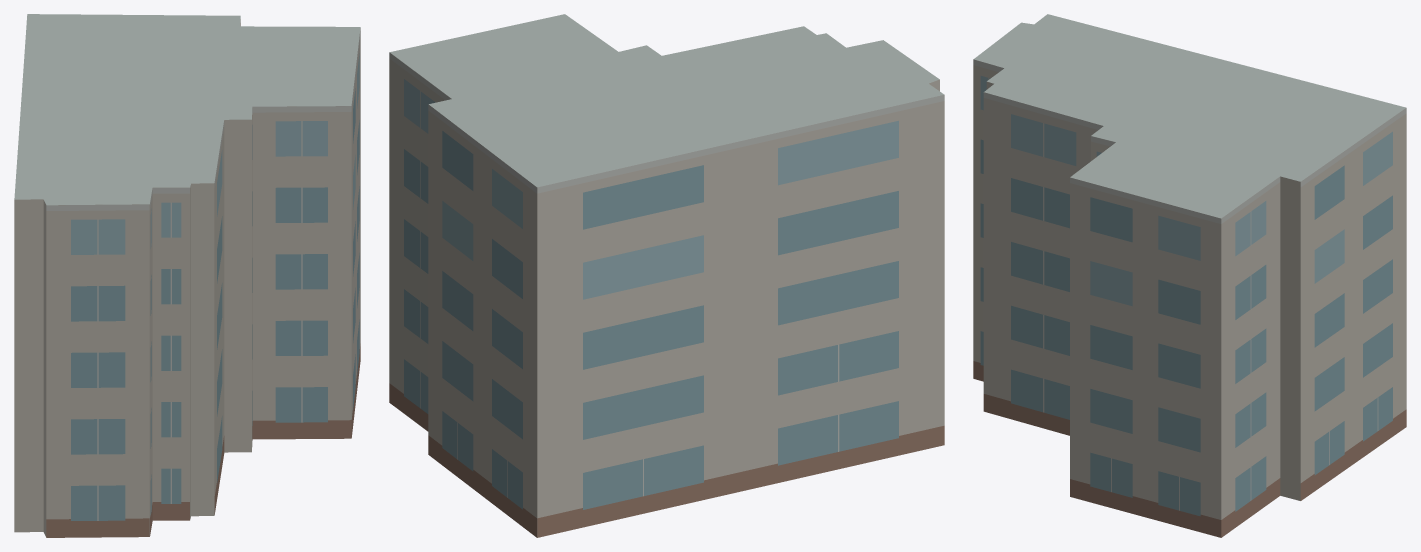
The model's file is survey-upis-32655823.glb.
3 views of the same model, side by side, from view 1: azimuth 30°, elevation 25°; view 2: azimuth 150°, elevation 25°; view 3: azimuth 270°, elevation 25° (orthographic). The views are drawn at different scales.
Parts seen in each view (by area): view 1: survey-upis-32655823.tmp; view 2: survey-upis-32655823.tmp; view 3: survey-upis-32655823.tmp.
Part boxes in pixels (x1,y1,x2,y2): survey-upis-32655823.tmp: [14, 14, 360, 537]; survey-upis-32655823.tmp: [389, 14, 944, 537]; survey-upis-32655823.tmp: [973, 14, 1406, 537].
Bounding box in the file's own units: 18.97 × 13.8 × 16.97.
